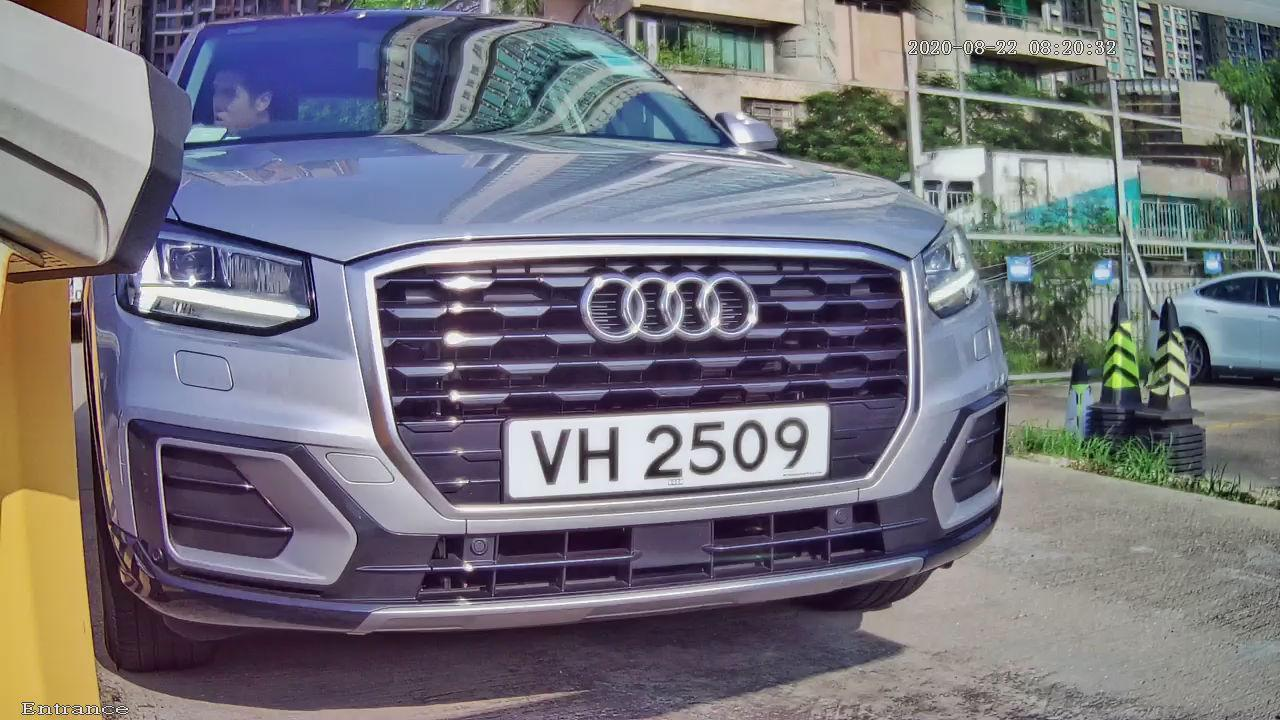Car: (18, 4, 1029, 692)
License Plate: (456, 375, 881, 510)
